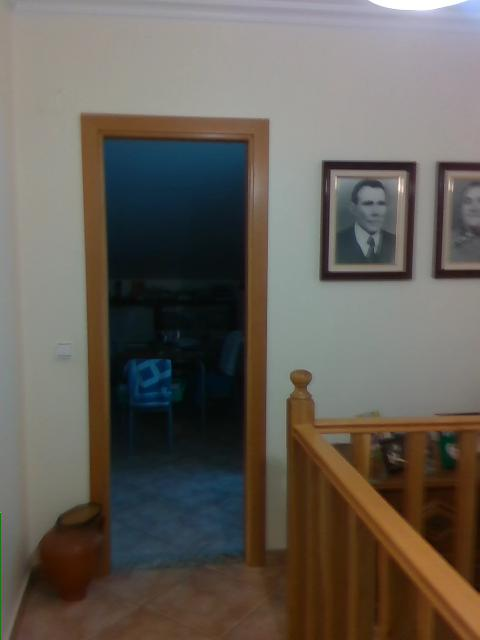open_door: (77, 110, 271, 568)
